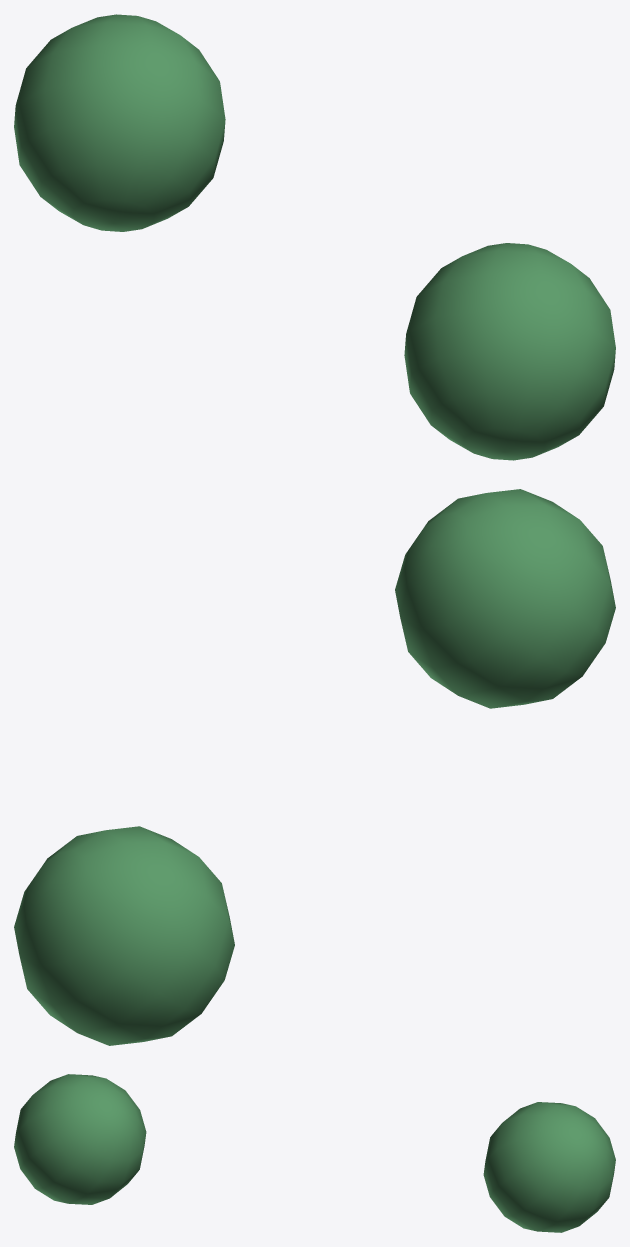
3 views of the same model, one above another, from view 1: azimuth 30°, elevation 25°; view 2: azimuth 150°, elevation 25°; view 3: azimuth 270°, elevation 25° (orthographic). The views are drawn at different scales.
Visible parts, largest first — view 1: 左侧咽后淋巴结; view 2: 左侧咽后淋巴结; view 3: 左侧咽后淋巴结.
Part boxes in pixels (x1,y1,x2,y2): 左侧咽后淋巴结: (14, 14, 615, 460); 左侧咽后淋巴结: (14, 489, 615, 1045); 左侧咽后淋巴结: (14, 1074, 615, 1232).
Size of the model in its own units: 0.00398 by 0.00475 by 0.0172.
